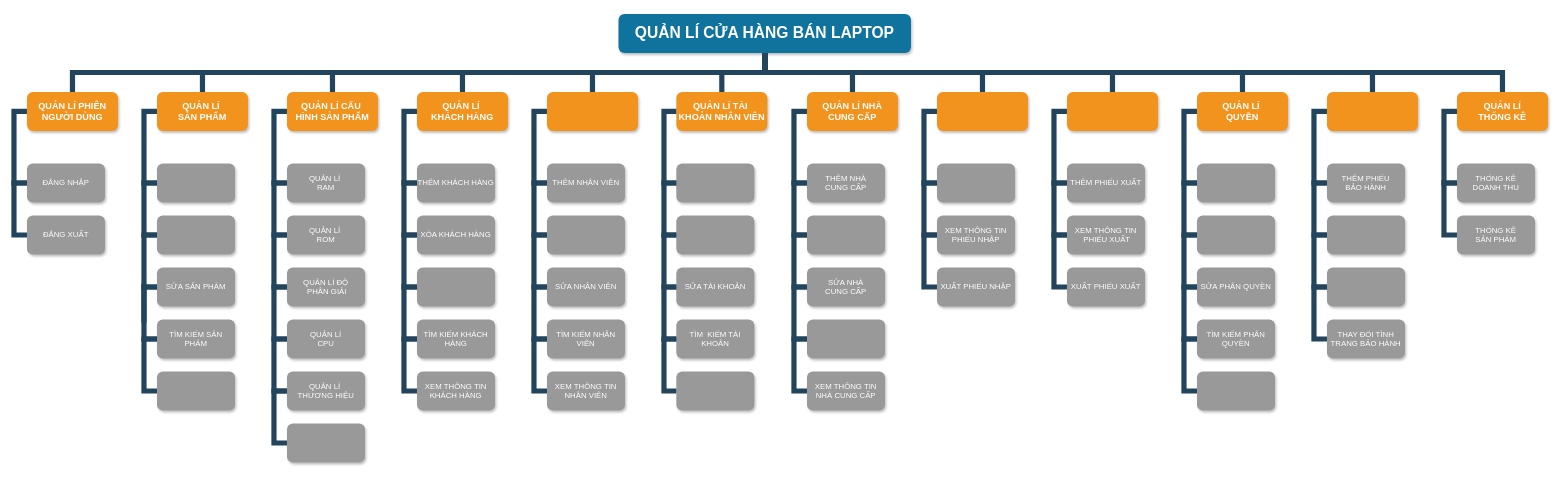
Some shapes in this 1563 by 478 pixel diagram are drawn without their labels. Each missing label, with the centre of its shape:
QUẢN LÍ BẢO HÀNH: the point at 1373,112
QUẢN LÍ NHÂN VIÊN: the point at 593,112
QUẢN LÍ NHẬP HÀNG: the point at 983,112
QUẢN LÍ PHÂN LOẠI: the point at 326,444
QUẢN LÍ XUẤT HÀNG: the point at 1113,112
SỬA KHÁCH HÀNG: the point at 456,288
THÊM PHIẾU NHẬP: the point at 976,184
THÊM PHÂN QUYỀN: the point at 1236,184
THÊM SẢN PHẨM: the point at 196,184
THÊM TÀI KHOẢN: the point at 715,184
TÌM KIẾM NHÀ CUNG CẤP: the point at 846,340
XEM CHI TIẾT SẢN PHẨM: the point at 196,392
XEM PHÂN QUYỀN: the point at 1236,392
XEM THÔNG TIN PHIẾU BẢO HÀNH: the point at 1366,236
XEM THÔNG TIN TÀI KHOẢN: the point at 715,392
XUẤT PHIẾU BẢO HÀNH: the point at 1366,288
XÓA NHÀ CUNG CẤP: the point at 846,236
XÓA NHÂN VIÊN: the point at 586,236
XÓA PHÂN QUYỀN: the point at 1236,236
XÓA SẢN PHẨM: the point at 196,236
XÓA TÀI KHOẢN: the point at 715,236
